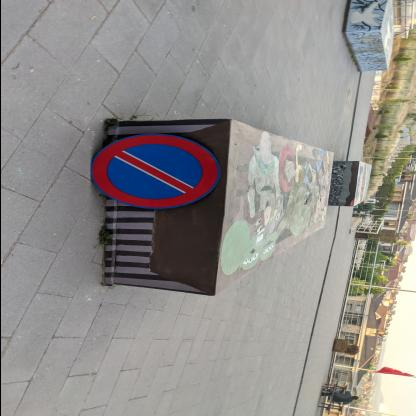No Waiting: (91, 135, 221, 211)
